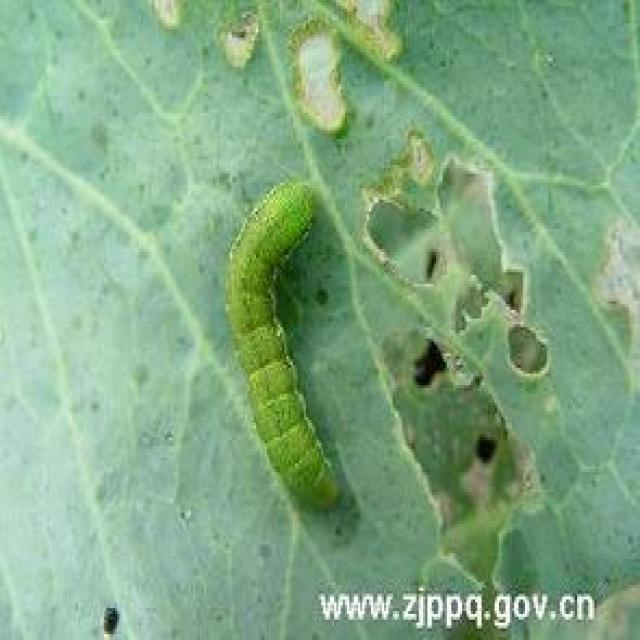BeetArmyWorm-Larva-: (220, 178, 343, 526)
